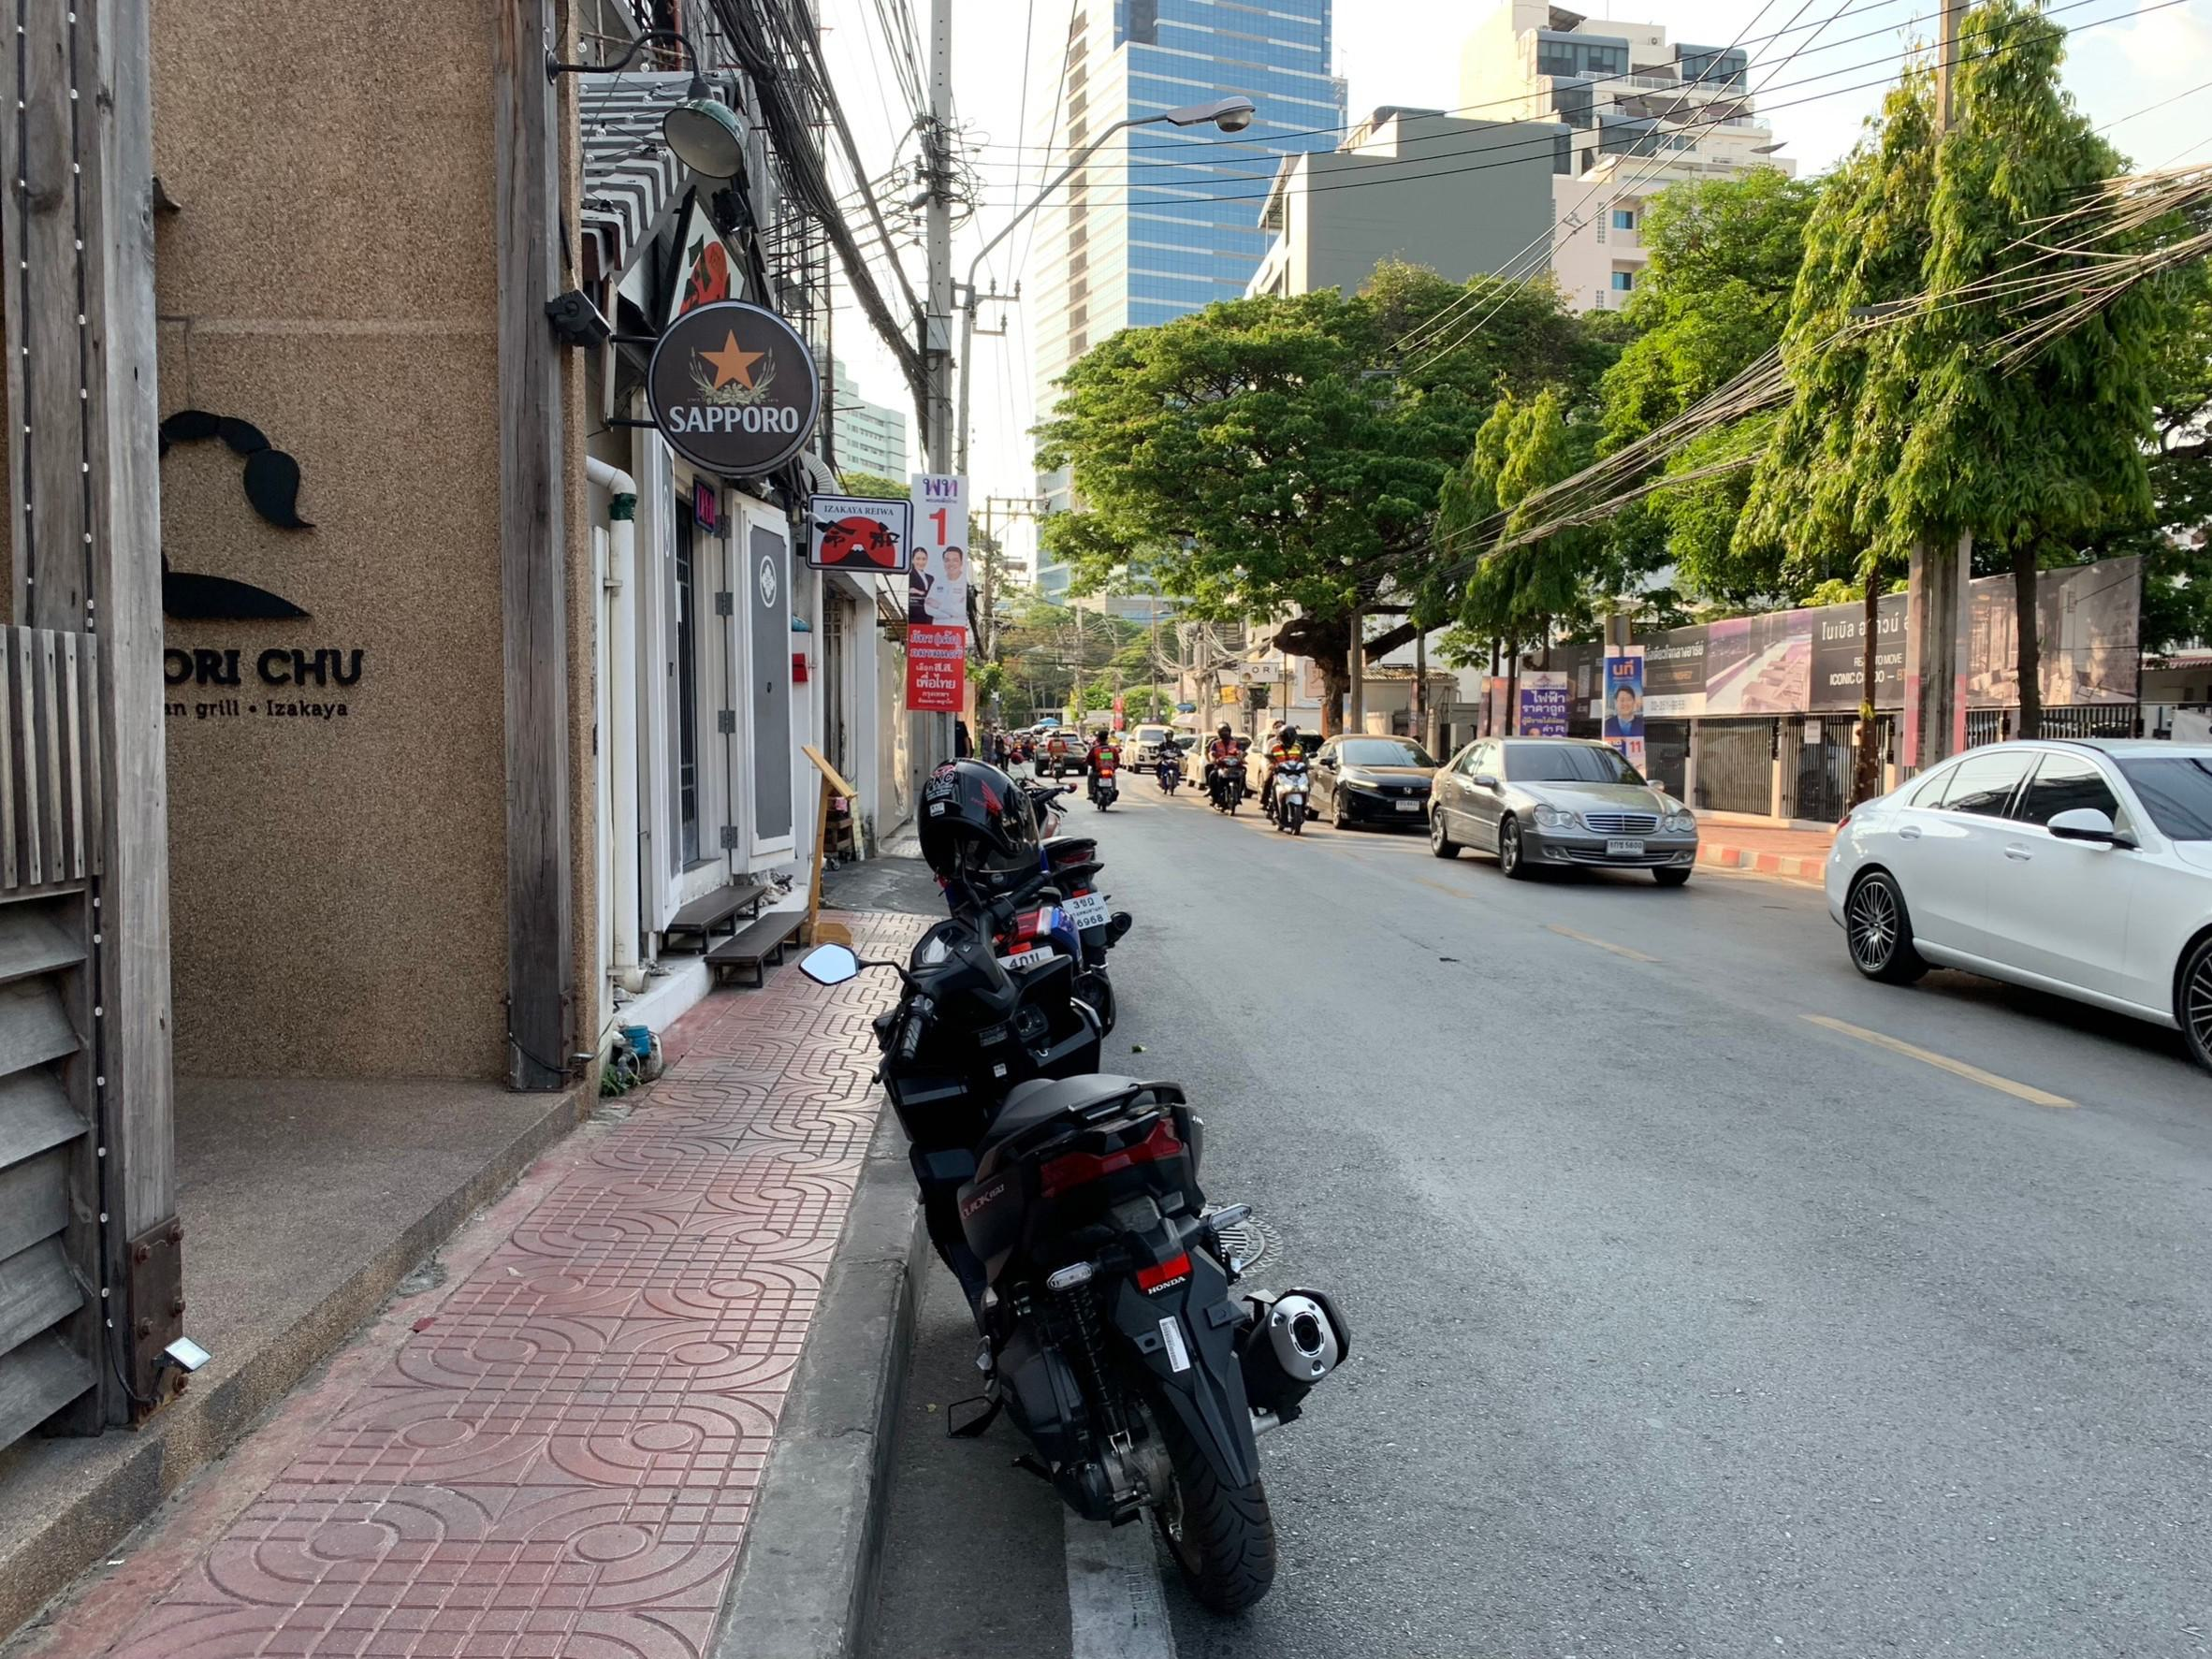Banner: (907, 453, 975, 720)
